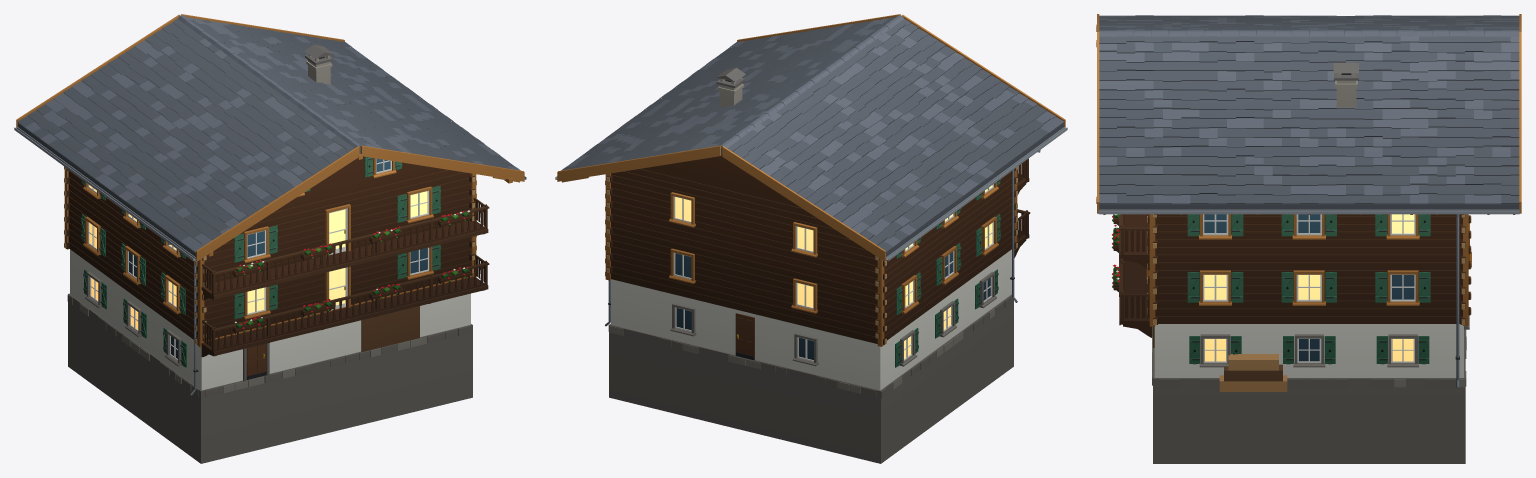
The model's file is Chalet_C.fbx.
3 renders of one model, left to right at view 1: azimuth 30°, elevation 25°; view 2: azimuth 150°, elevation 25°; view 3: azimuth 270°, elevation 25°, orthographic. The views are drawn at different scales.
Parts seen in each view (by area): view 1: Chalet_C_LOD0; view 2: Chalet_C_LOD0; view 3: Chalet_C_LOD0.
Part boxes in pixels (<box>): Chalet_C_LOD0: <box>14,14,526,463</box>; Chalet_C_LOD0: <box>555,14,1067,463</box>; Chalet_C_LOD0: <box>1096,14,1521,463</box>.
Size of what is drawn, in the model's own units: 16.08 by 14.13 by 15.12.
1 material, 1 textured.
